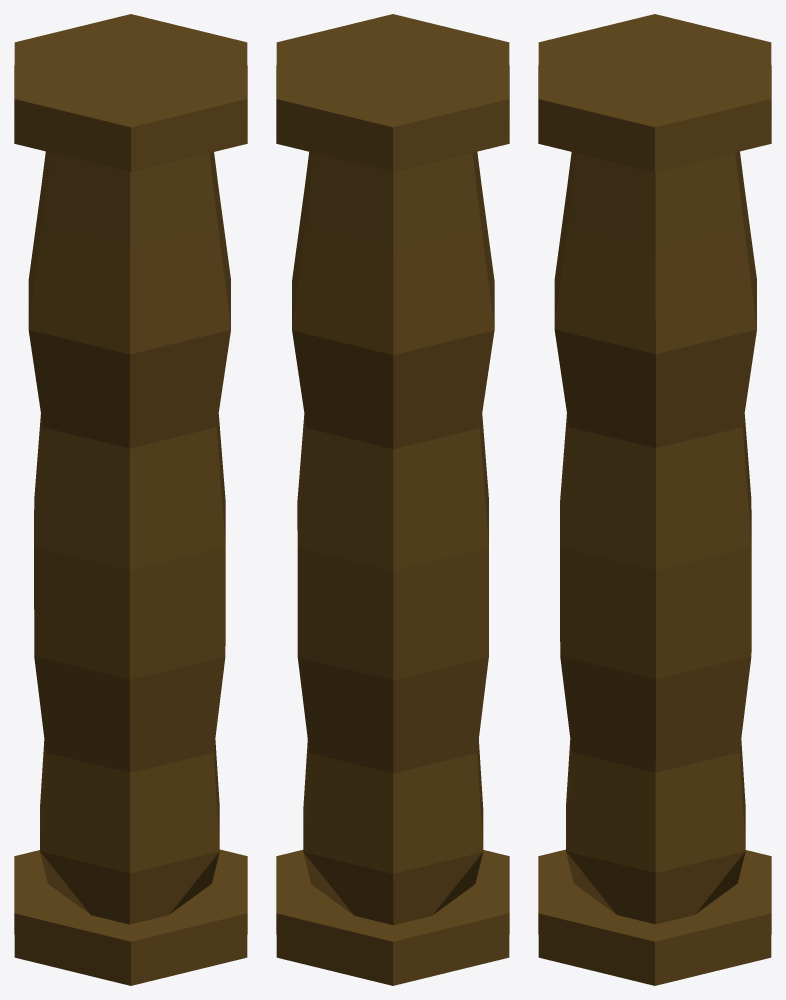
The model's file is A_Collumn.FBX.
3 renders of one model, left to right at view 1: azimuth 30°, elevation 25°; view 2: azimuth 150°, elevation 25°; view 3: azimuth 270°, elevation 25°, orthographic.
Visible parts, largest first — view 1: Cylinder004; view 2: Cylinder004; view 3: Cylinder004.
Boxes of the visible parts, left/top/right/bottom form: Cylinder004: left=14, top=14, right=247, bottom=985; Cylinder004: left=276, top=14, right=509, bottom=985; Cylinder004: left=538, top=14, right=771, bottom=985.
Bounding box in the file's own units: 89.98 × 316 × 77.92.
